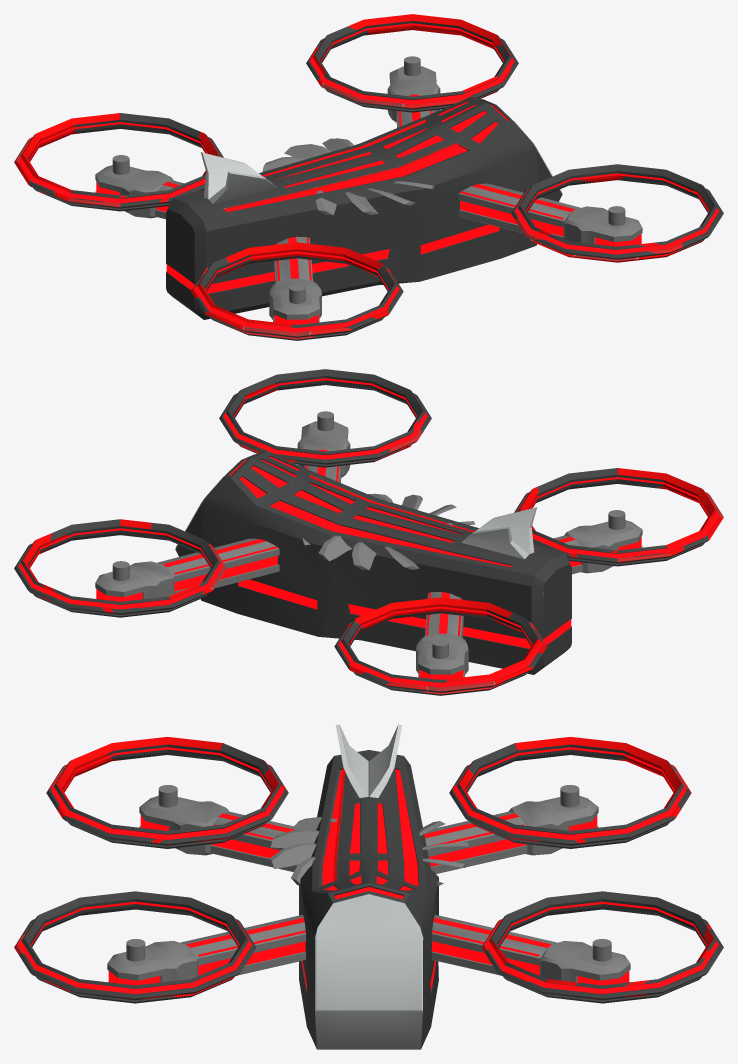
File: DroneFF.fbx
The picture shows the model from 3 angles, top to bottom: view 1: azimuth 30°, elevation 25°; view 2: azimuth 150°, elevation 25°; view 3: azimuth 270°, elevation 25°; orthographic projection. The views are drawn at different scales.
Visible parts, largest first — view 1: Cube, Cube.002, Cube.001, Cylinder.001; view 2: Cube, Cube.002, Cube.001, Cylinder.001; view 3: Cube, Cube.002, Cube.001, Cylinder.001.
Part boxes in pixels (<box>): Cube: <box>14,56,642,340</box>; Cube.002: <box>18,23,719,332</box>; Cube.001: <box>306,14,723,262</box>; Cylinder.001: <box>262,138,434,215</box>; Cube: <box>95,411,723,695</box>; Cube.002: <box>18,378,719,687</box>; Cube.001: <box>14,369,431,617</box>; Cylinder.001: <box>302,493,475,570</box>; Cube: <box>46,724,691,1049</box>; Cube.002: <box>19,747,718,993</box>; Cube.001: <box>14,891,723,1003</box>; Cylinder.001: <box>270,817,468,886</box>.
Size of the model in its own units: 2450 by 667 by 2695.
